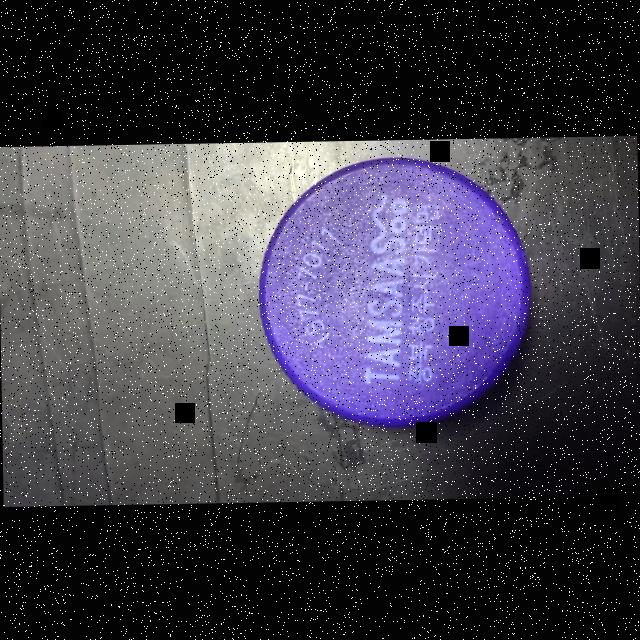plastic_bottle_cap: (245, 150, 542, 436)
